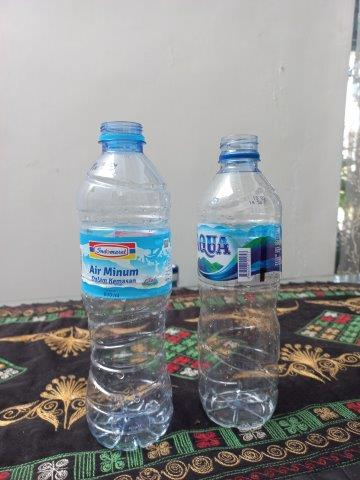botolplastik: (75, 120, 174, 449), (197, 133, 283, 431)
